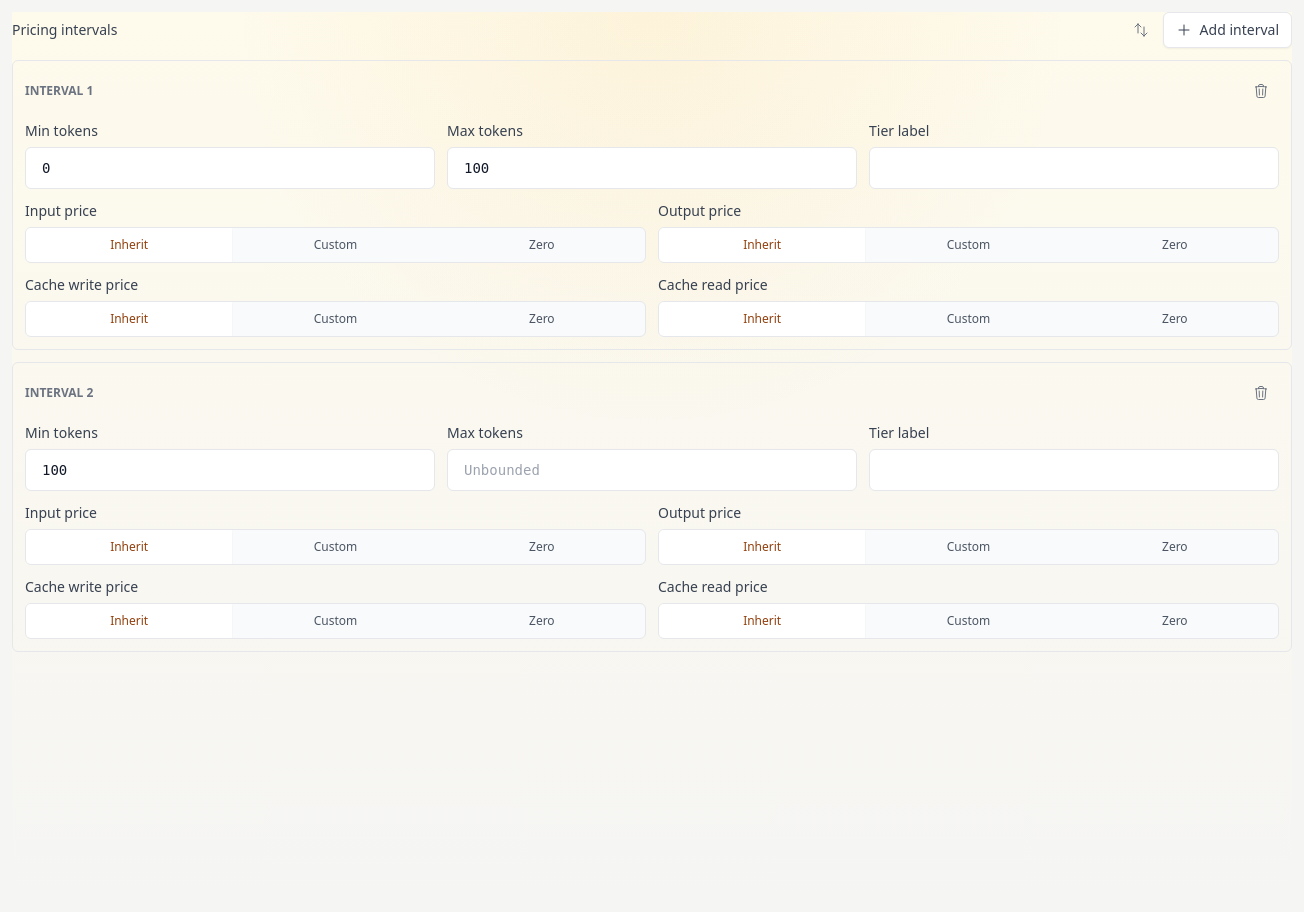
PricingIntervalsEditor › rejects overlapping intervals after sorting
The image size is (1304, 912).
Replace the text in the number field with test id "min-tokens-1" with "50" at (230, 470), box [25, 449, 435, 491]
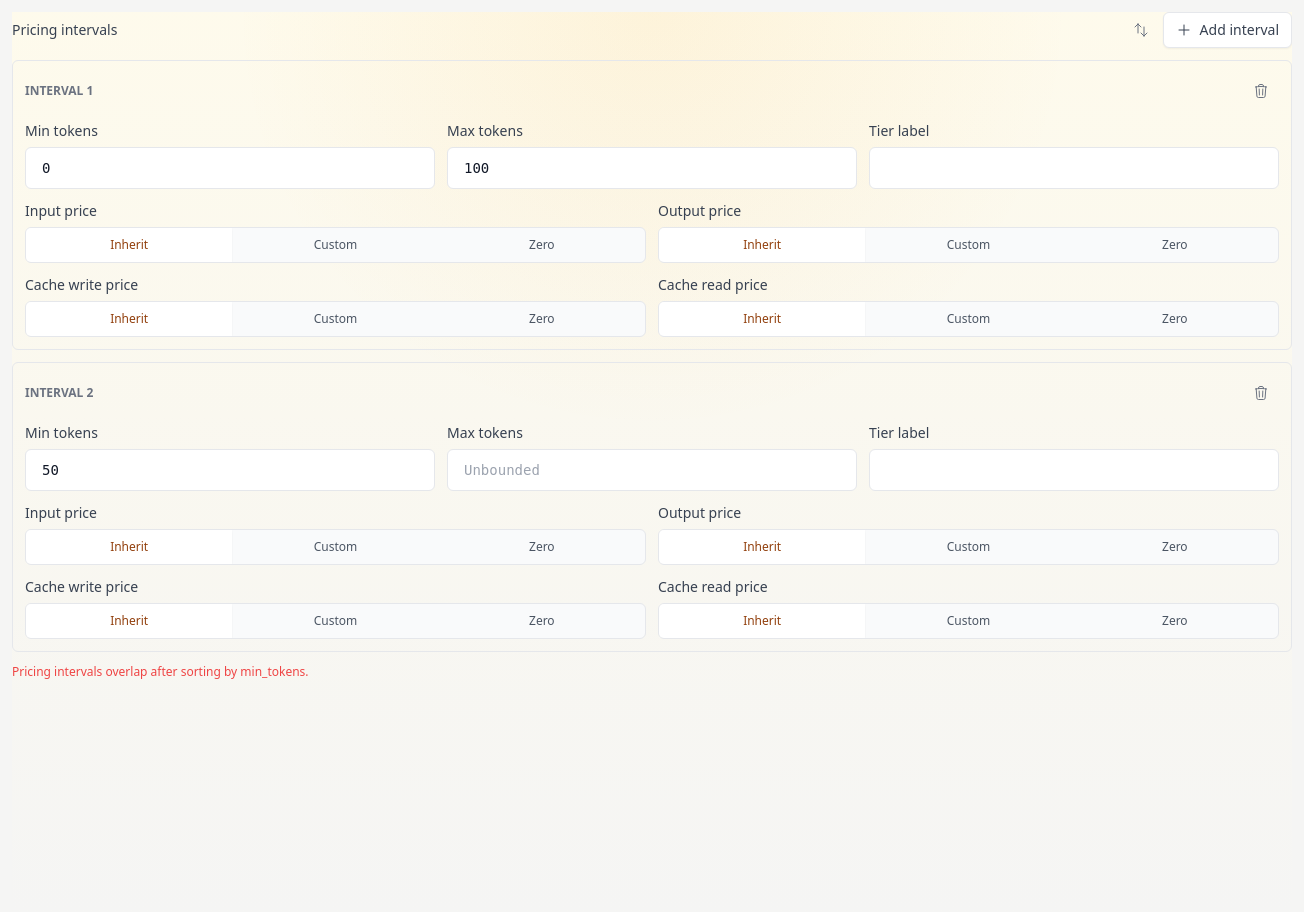
Result: the message "Pricing intervals overlap after sorting by min_tokens." is shown at [12, 663, 308, 680]
